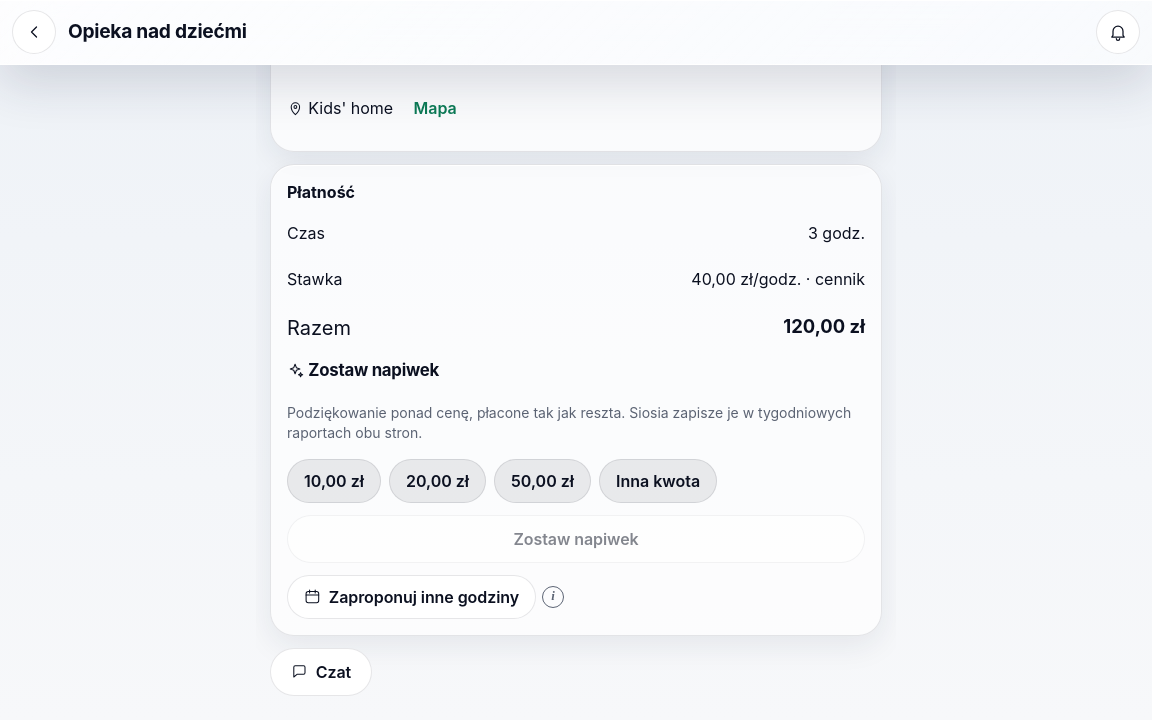
2.14.1 moving into the past (FR-345) › a done appointment three days on: a move only, no switch; past 30 days nothing — in Polish
Later steps or results of the test are not shown.
(page scrolled)
Click the button with test id "payment-propose" at (412, 597), box [287,575,536,619]
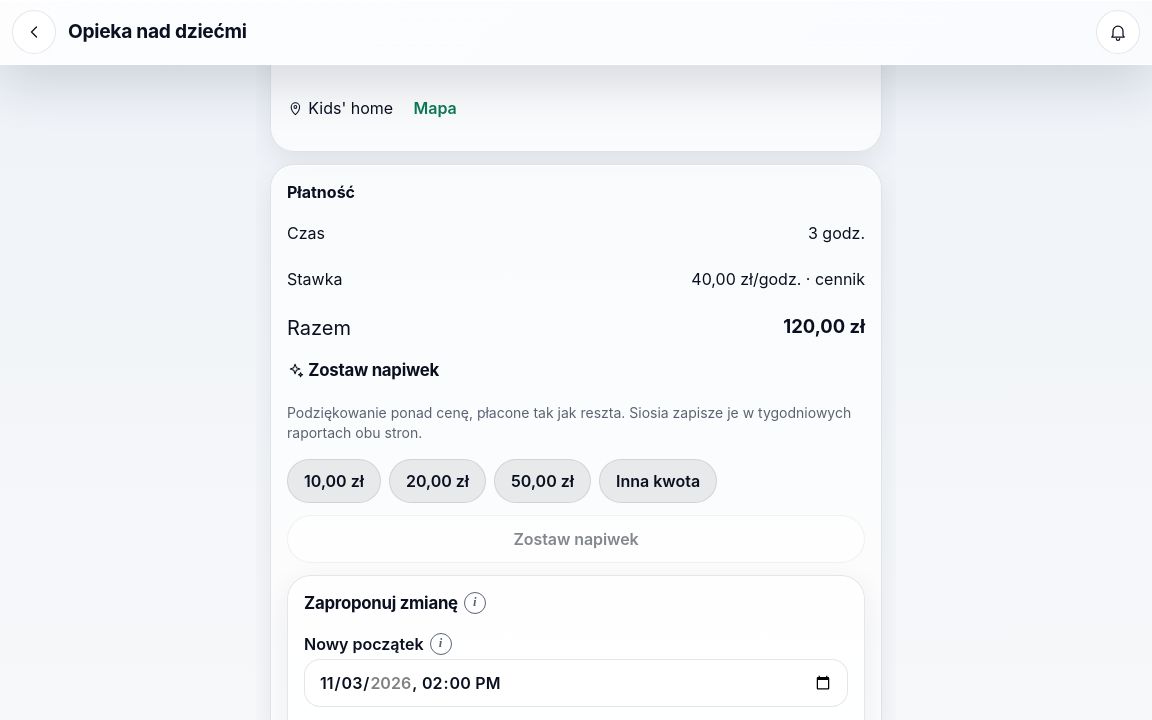
Expected: the element with test id "change-sheet" shows "Zaproponuj zmianę", [304,593,458,613]
Expected: the button with test id "payment-propose" is gone
Expected: the field with test id "change-start" is shown, [304,659,848,707]
